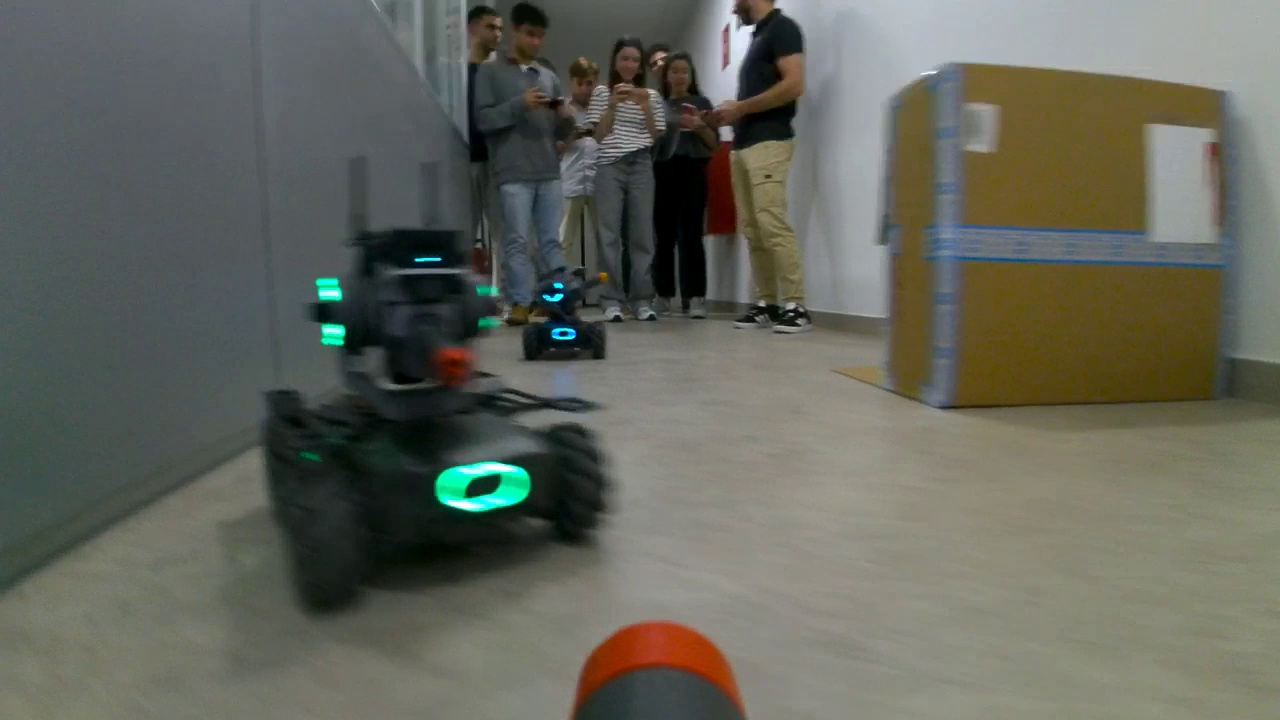robot: (258, 227, 613, 621), (518, 268, 613, 363)
